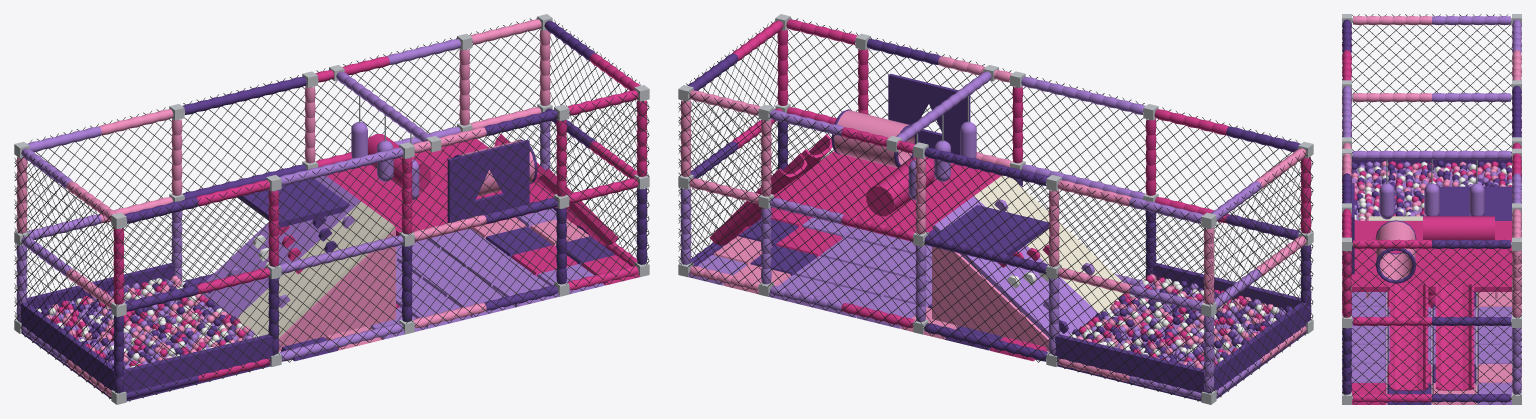
Rendered from web.glb.
The picture shows the model from 3 angles, left to right: view 1: azimuth 30°, elevation 25°; view 2: azimuth 150°, elevation 25°; view 3: azimuth 270°, elevation 25°; orthographic projection. The views are drawn at different scales.
Visible parts, largest first — view 1: isotubo, rede, plataforma, piso, acolchoado, bolinhas, metal, plastico; view 2: isotubo, rede, plataforma, piso, acolchoado, bolinhas, metal, plastico; view 3: isotubo, rede, plataforma, piso, plastico, acolchoado, bolinhas, metal.
Part boxes in pixels (left/top/right/bottom): isotubo: left=16, top=19, right=647, bottom=399; rede: left=14, top=17, right=649, bottom=401; plataforma: left=201, top=139, right=556, bottom=351; piso: left=281, top=208, right=639, bottom=361; acolchoado: left=17, top=121, right=537, bottom=401; bolinhas: left=36, top=275, right=259, bottom=368; metal: left=14, top=14, right=649, bottom=404; plastico: left=208, top=134, right=618, bottom=308; isotubo: left=680, top=19, right=1311, bottom=399; rede: left=678, top=17, right=1313, bottom=401; plataforma: left=771, top=73, right=1123, bottom=351; piso: left=688, top=208, right=1046, bottom=361; acolchoado: left=831, top=109, right=1310, bottom=401; bolinhas: left=1069, top=274, right=1292, bottom=368; metal: left=678, top=14, right=1313, bottom=404; plastico: left=709, top=134, right=1094, bottom=333; isotubo: left=1342, top=16, right=1521, bottom=402; rede: left=1342, top=14, right=1521, bottom=404; plataforma: left=1351, top=183, right=1512, bottom=298; piso: left=1342, top=292, right=1521, bottom=404; plastico: left=1389, top=211, right=1474, bottom=390; acolchoado: left=1352, top=151, right=1511, bottom=283; bolinhas: left=1351, top=160, right=1512, bottom=220; metal: left=1342, top=14, right=1521, bottom=404.
Size of the model in its own units: 6 by 2 by 2.
Materials: 8 (8 with a texture image).
